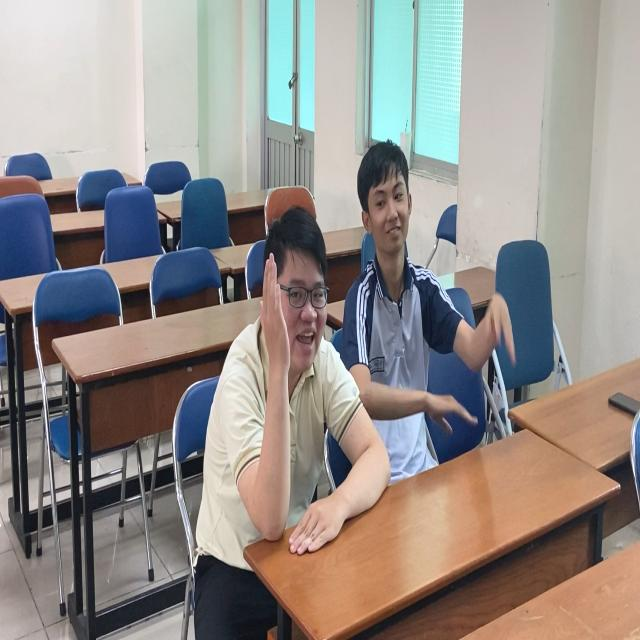raise_hand: (219, 207, 363, 549)
